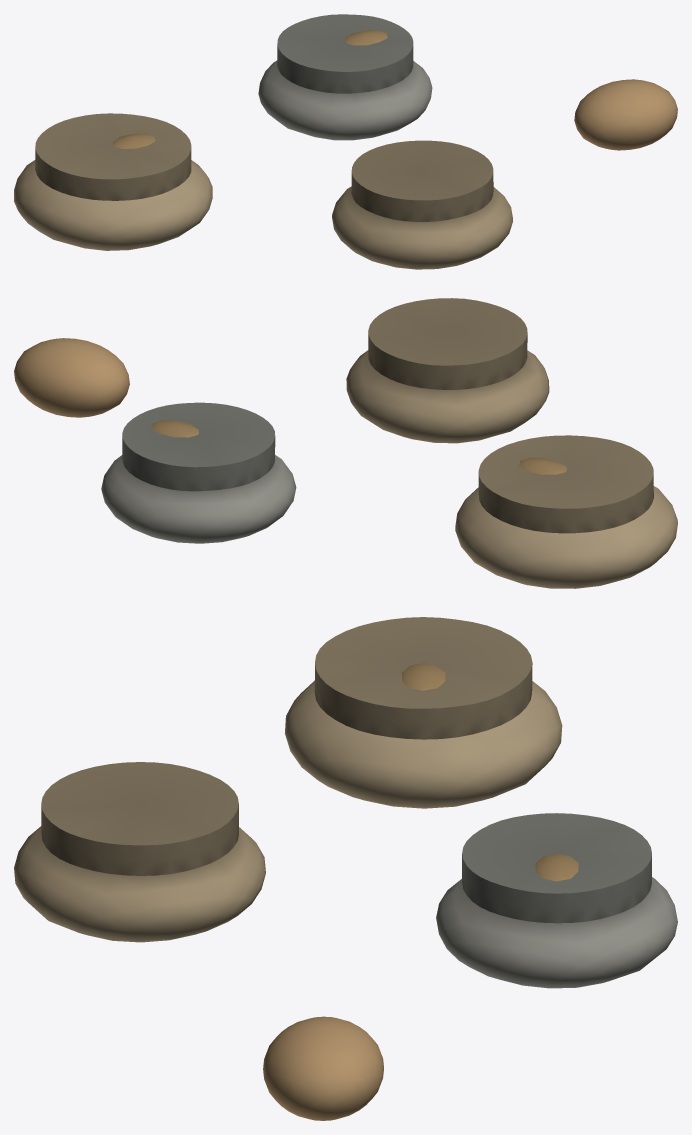
File: dish_stones_b.glb
The picture shows the model from 3 angles, top to bottom: view 1: azimuth 30°, elevation 25°; view 2: azimuth 150°, elevation 25°; view 3: azimuth 270°, elevation 25°; orthographic projection. The views are drawn at different scales.
Visible parts, largest first — view 1: Surface; view 2: Surface; view 3: Surface.
Part boxes in pixels (<box>): Surface: <box>14,14,677,269</box>; Surface: <box>14,298,677,588</box>; Surface: <box>14,617,677,1120</box>.
Size of the model in its own units: 2.94 by 0.4262 by 1.99.
